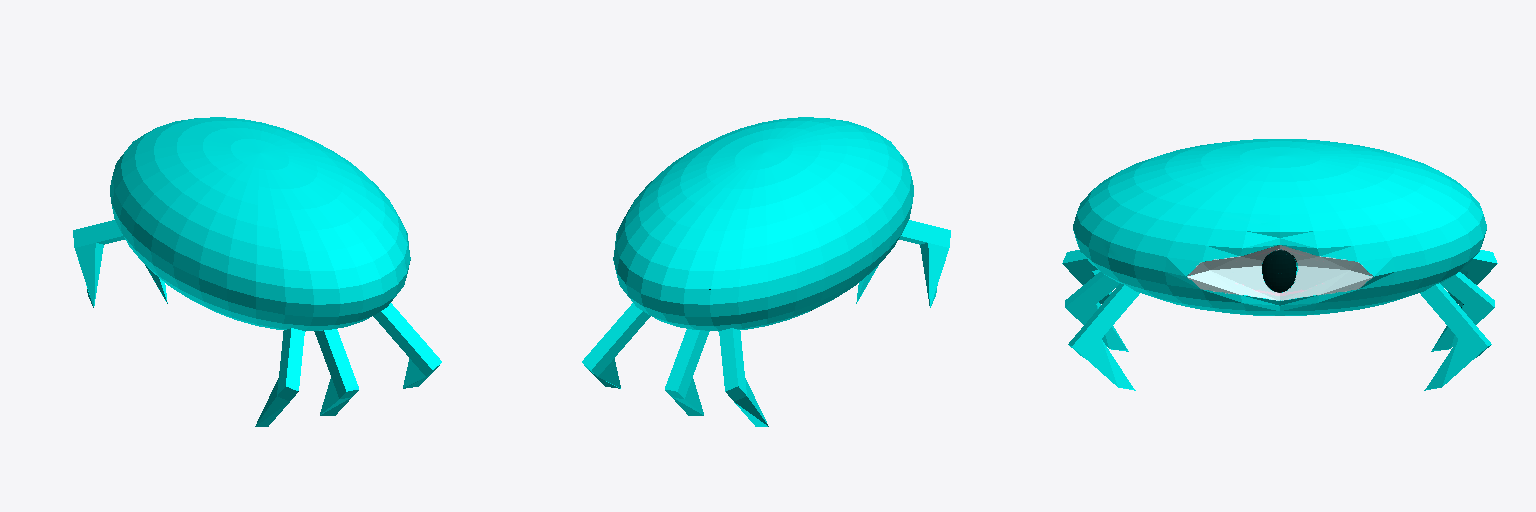
The picture shows the model from 3 angles: view 1: azimuth 30°, elevation 25°; view 2: azimuth 150°, elevation 25°; view 3: azimuth 270°, elevation 25°; orthographic projection.
Parts seen in each view (by area): view 1: 球; view 2: 球; view 3: 球.
Part boxes in pixels (left/top/right/bottom): 球: left=73, top=117, right=441, bottom=426; 球: left=582, top=117, right=950, bottom=426; 球: left=1062, top=139, right=1497, bottom=390.
Size of the model in its own units: 110 by 102 by 197.
Materials: 1 (1 with a texture image).